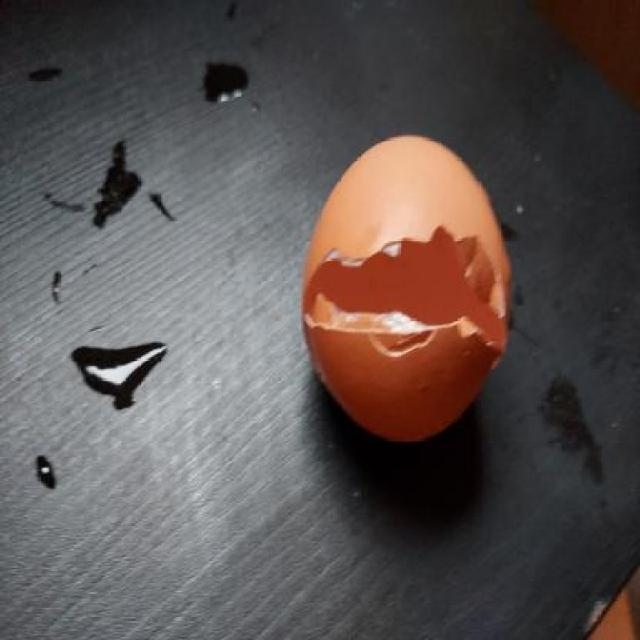biodegradable: (300, 132, 509, 440)
